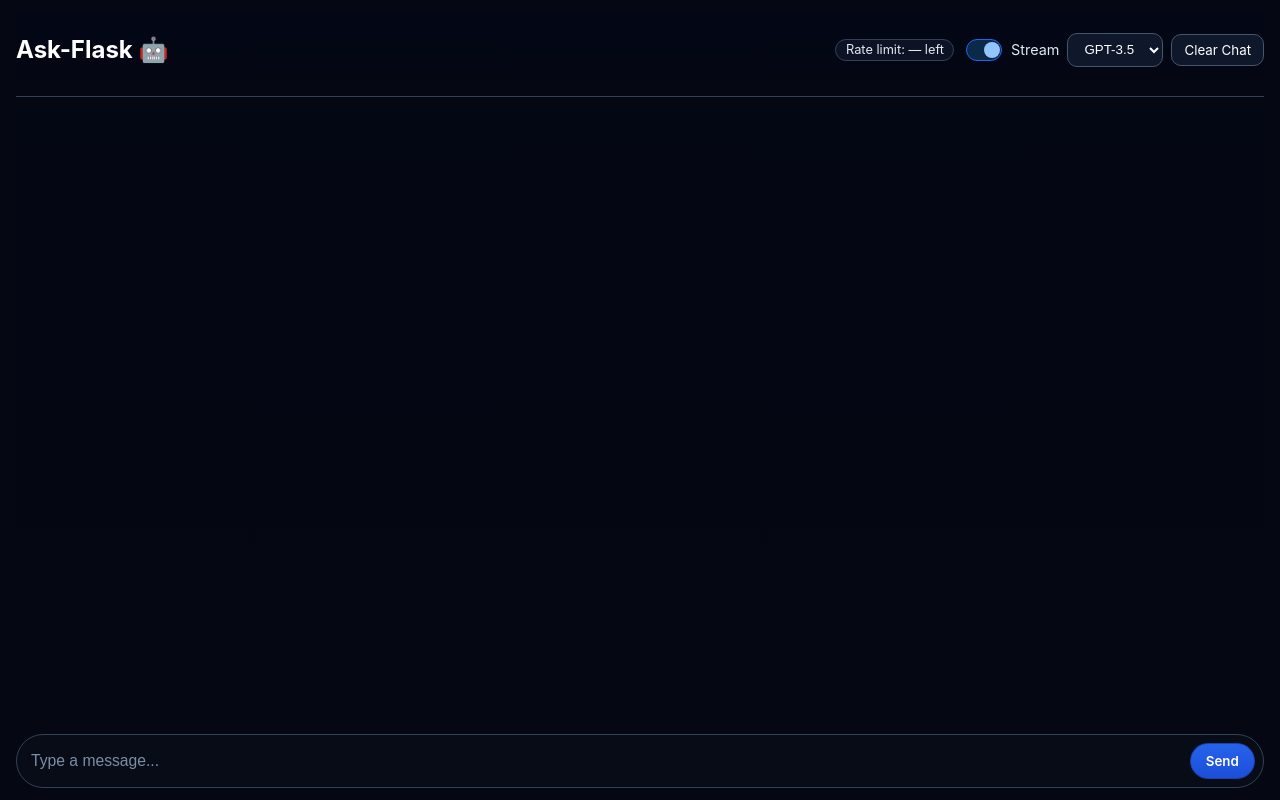
Scenario: shows a friendly error when /api/chat returns error JSON
The width and height of the screenshot is (1280, 800).
Click the checkbox labelled "Stream". click: (984, 50)
box: [966,39,1002,61]
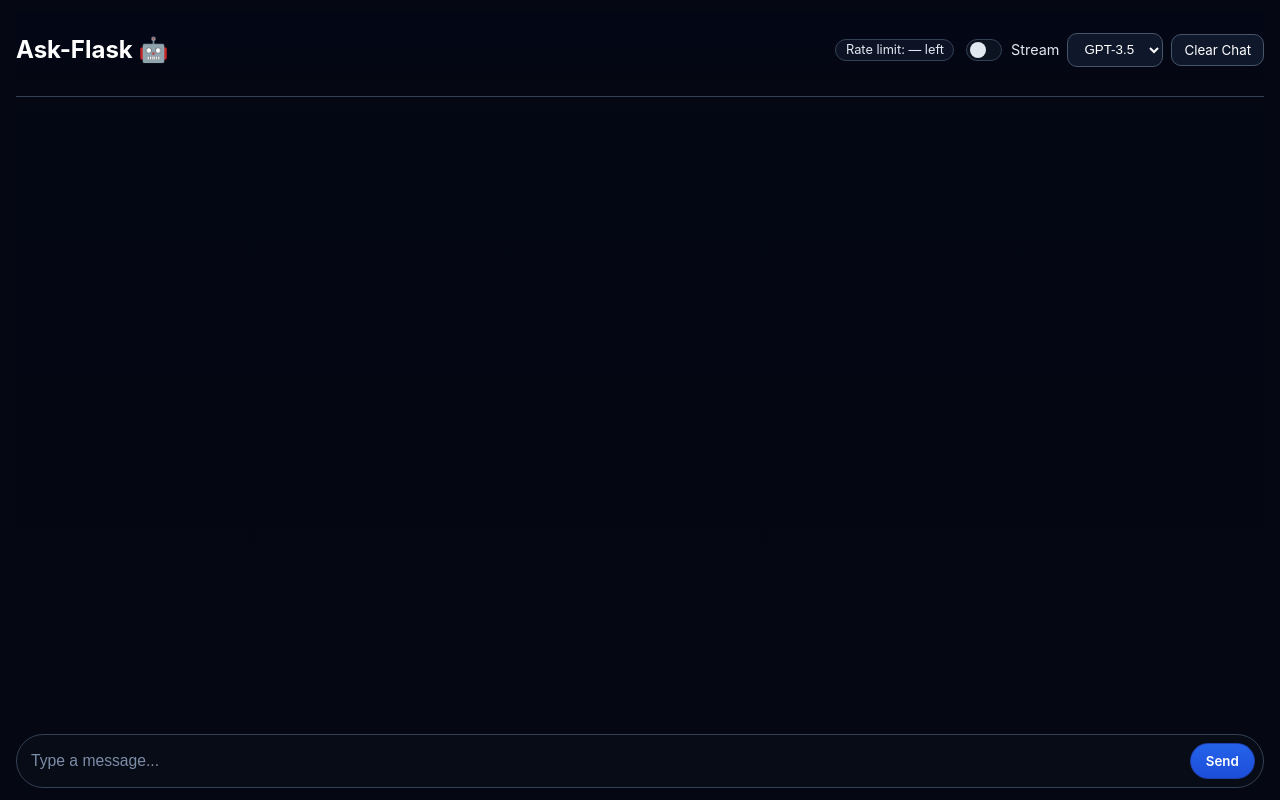
Type "trigger error" into the field with placeholder "Type a message...". click: (605, 761)
box: [29,751,1182,771]
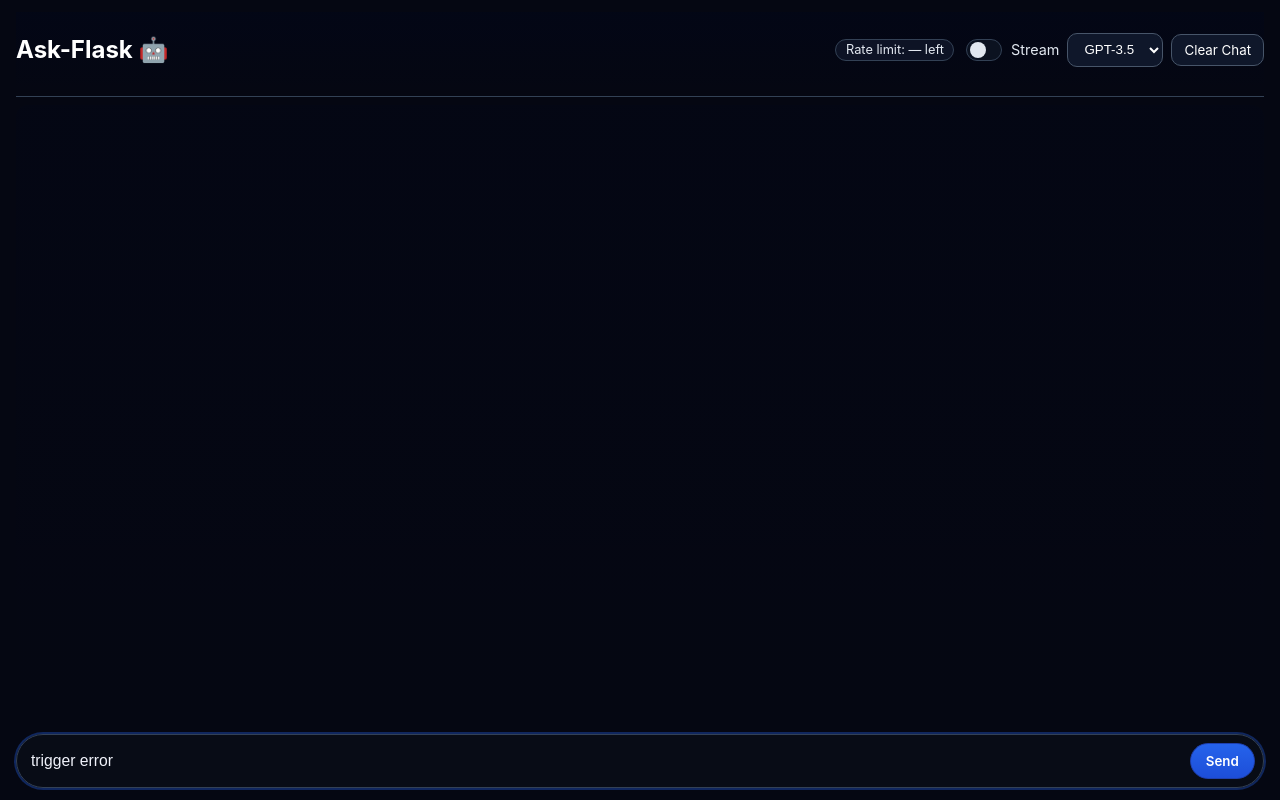
Click the button "Send". click: (1222, 761)
box: [1190,743,1255,779]
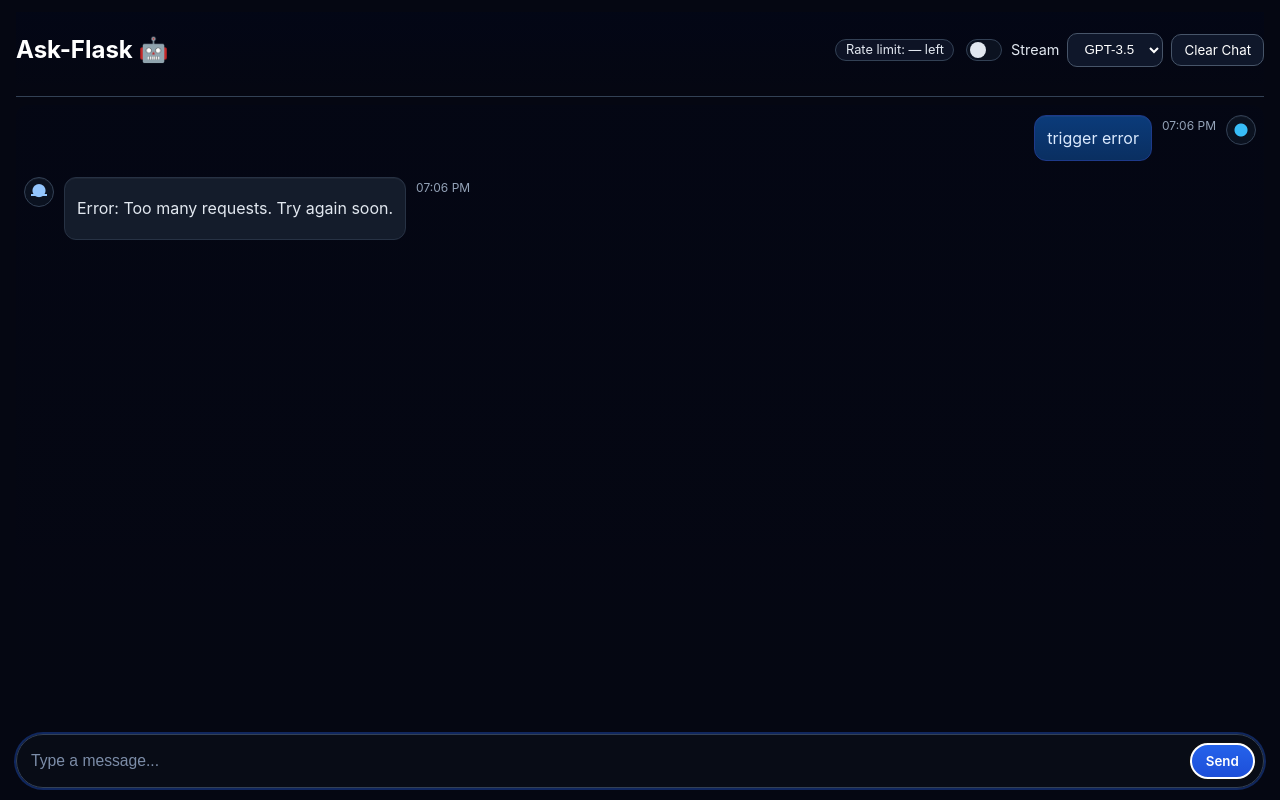
Result: the text "Error: Too many requests. Try again soon." is shown at [77,195,393,221]
